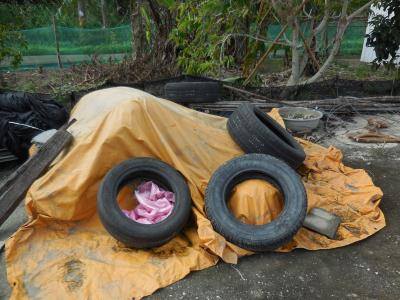bowl: (275, 104, 323, 134)
plastic_bag: (300, 139, 388, 253), (21, 174, 99, 300), (1, 90, 64, 158)
tire: (204, 151, 310, 251), (95, 155, 193, 252), (229, 96, 306, 166), (161, 80, 226, 106)
